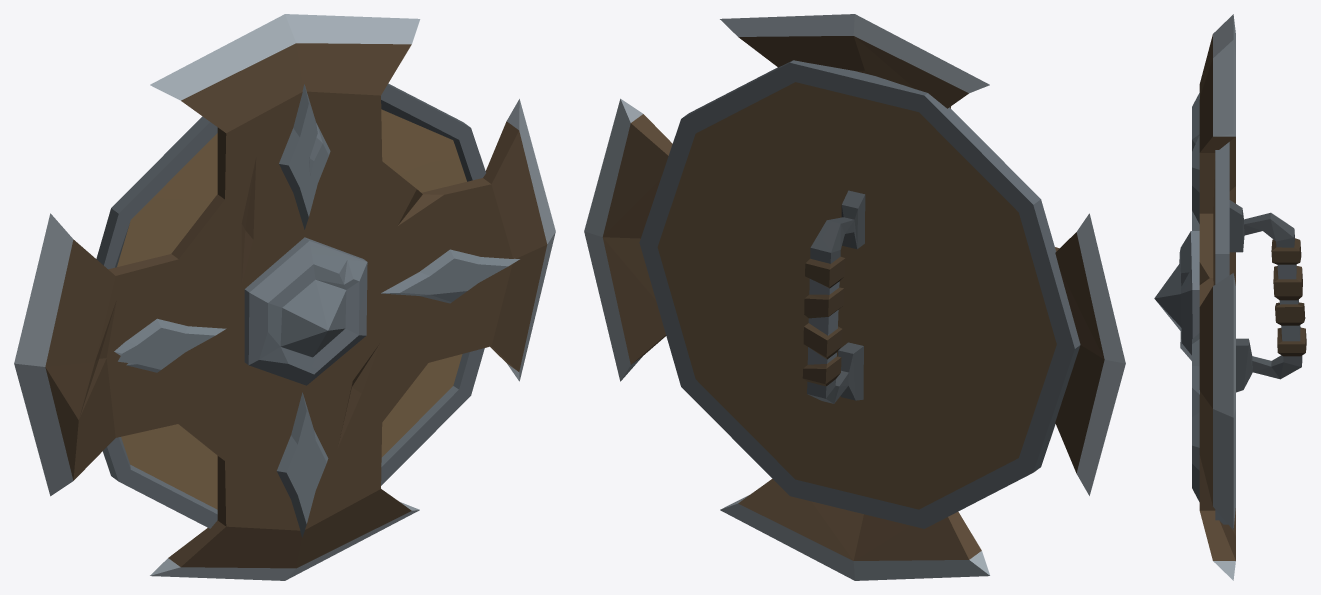
Rendered from kingdom_SM_Wep_Shield_08.gltf.
3 views of the same model, side by side, from view 1: azimuth 30°, elevation 25°; view 2: azimuth 150°, elevation 25°; view 3: azimuth 270°, elevation 25° (orthographic). The views are drawn at different scales.
Visible parts, largest first — view 1: SM_Wep_Shield_08; view 2: SM_Wep_Shield_08; view 3: SM_Wep_Shield_08.
Part boxes in pixels (x1=…): SM_Wep_Shield_08: x1=14, y1=14, x2=555, y2=580; SM_Wep_Shield_08: x1=584, y1=14, x2=1125, y2=580; SM_Wep_Shield_08: x1=1154, y1=14, x2=1306, y2=580.
Size of the model in its own units: 0.7625 by 0.7625 by 0.2043.
1 material, 1 textured.
